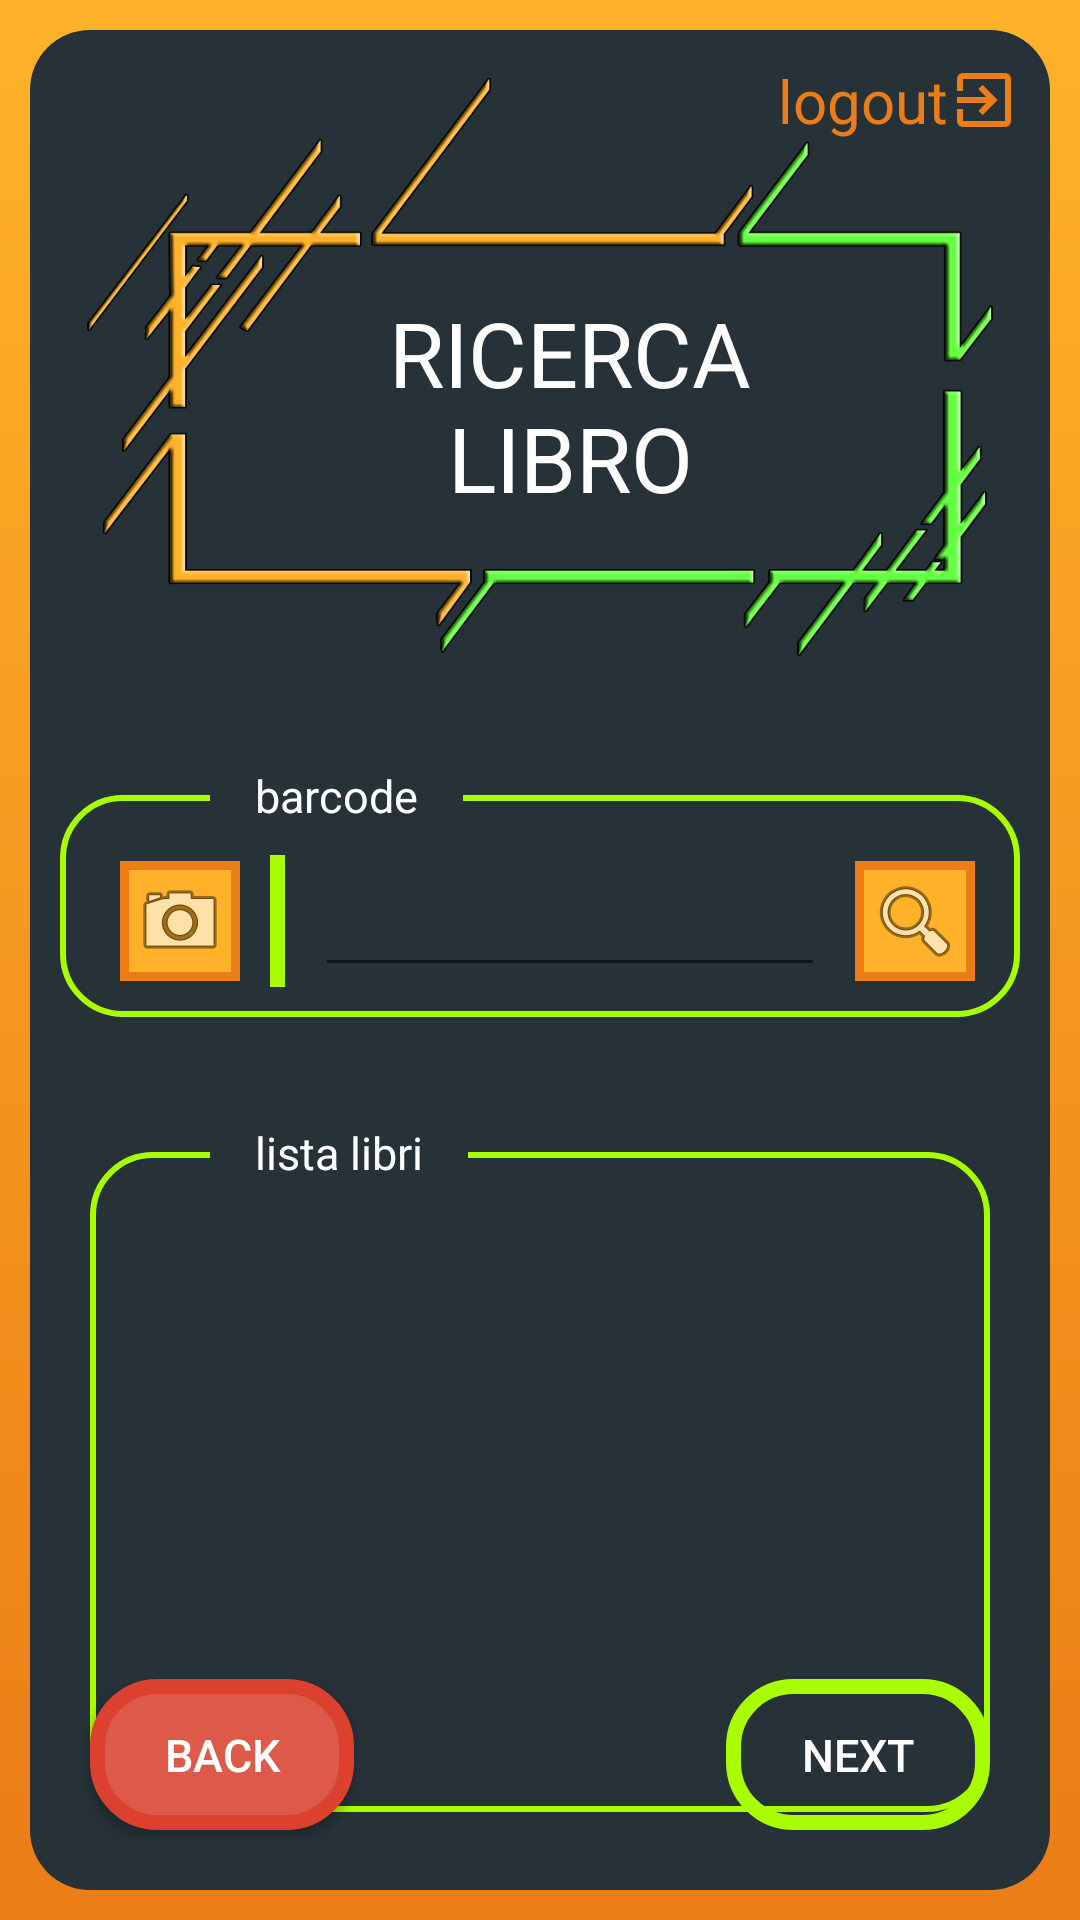

Icons on this 1080px×1920px Android screen, each with the point to tap as (x=x, y=y):
fotocamera: (x=180, y=921)
ricerca: (x=915, y=921)
